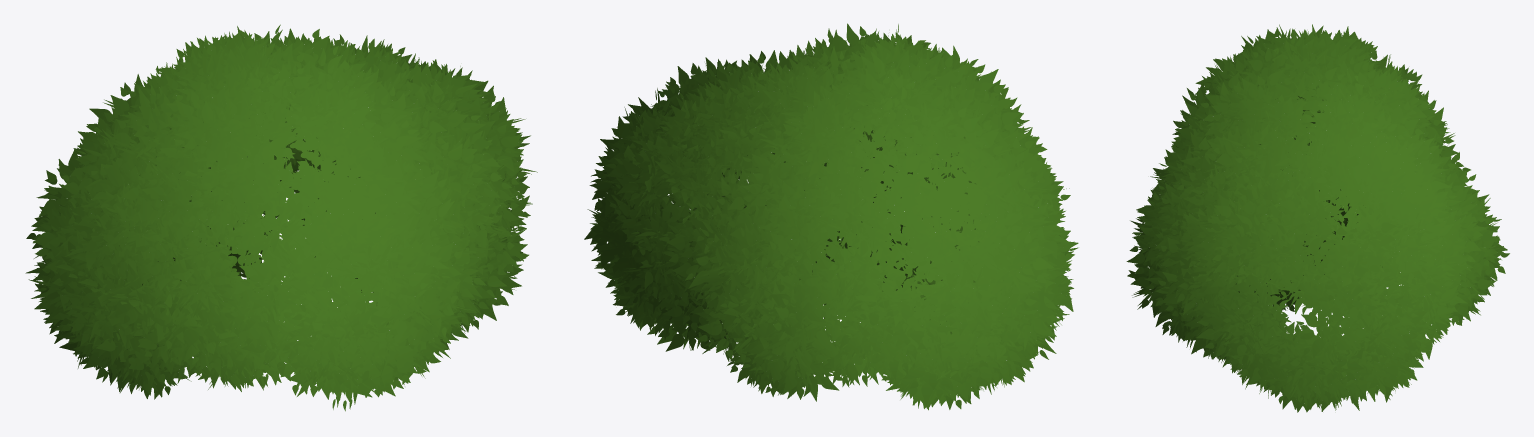
Rendered from Bush1.fbx.
3 renders of one model, left to right at view 1: azimuth 30°, elevation 25°; view 2: azimuth 150°, elevation 25°; view 3: azimuth 270°, elevation 25°, orthographic. The views are drawn at different scales.
Visible parts, largest first — view 1: Leaf.001; view 2: Leaf.001; view 3: Leaf.001.
Boxes of the visible parts, x1=… form: Leaf.001: x1=25, y1=24, x2=537, y2=411; Leaf.001: x1=584, y1=23, x2=1078, y2=410; Leaf.001: x1=1126, y1=24, x2=1509, y2=412.
Bounding box in the file's own units: 132 × 94.21 × 106.
